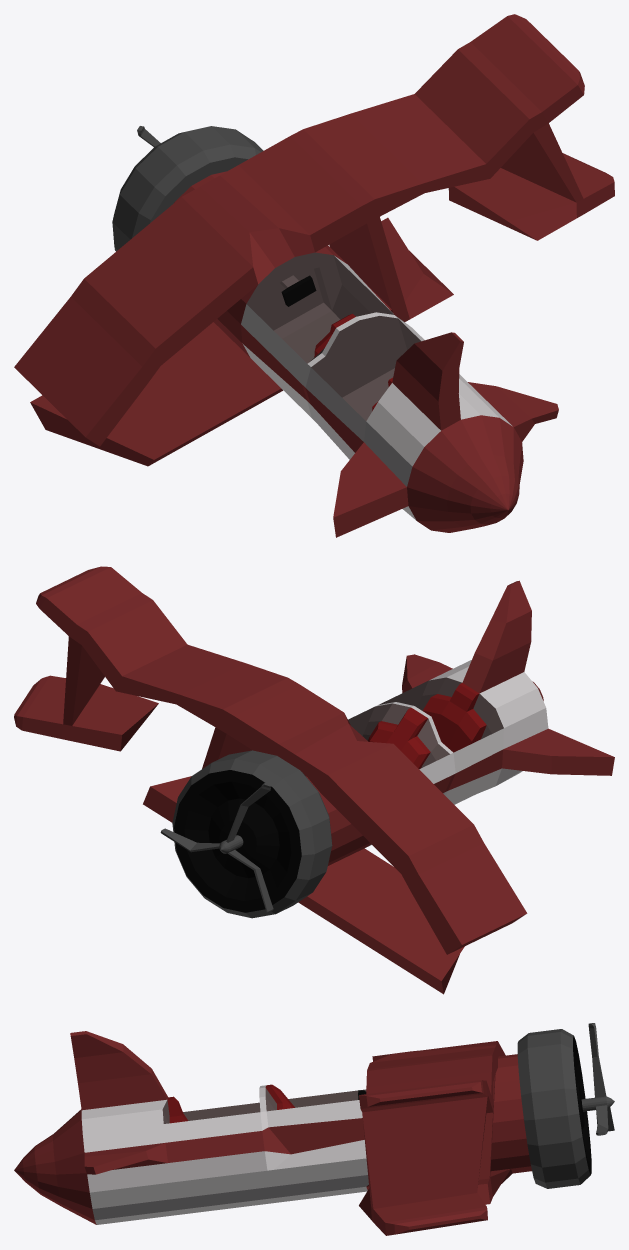
Rendered from Avion_texturizado.fbx.
The picture shows the model from 3 angles, top to bottom: view 1: azimuth 30°, elevation 25°; view 2: azimuth 150°, elevation 25°; view 3: azimuth 270°, elevation 25°; orthographic projection. The views are drawn at different scales.
Parts seen in each view (by area): view 1: Cylinder001; view 2: Cylinder001; view 3: Cylinder001.
Boxes of the visible parts, box(x1,y1,x2,y2) form: Cylinder001: box(14, 14, 614, 537); Cylinder001: box(14, 566, 614, 994); Cylinder001: box(14, 1023, 614, 1235).
Size of the model in its own units: 708 by 403 by 793.
